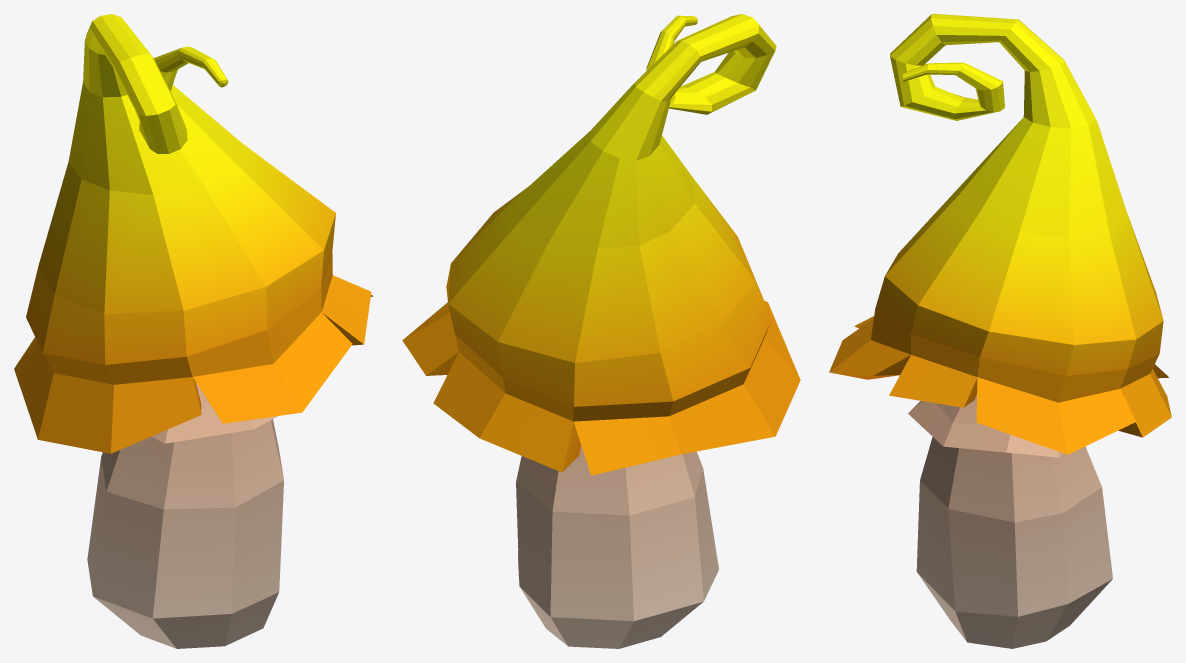
Rendered from dm11.mushroom.lg.v2.01.glb.
The picture shows the model from 3 angles, left to right: view 1: azimuth 30°, elevation 25°; view 2: azimuth 150°, elevation 25°; view 3: azimuth 270°, elevation 25°; orthographic projection. The views are drawn at different scales.
Parts seen in each view (by area): view 1: PP_Mushroom_Fantasy_Orange_09.001_PP_Standard_Material_0; view 2: PP_Mushroom_Fantasy_Orange_09.001_PP_Standard_Material_0; view 3: PP_Mushroom_Fantasy_Orange_09.001_PP_Standard_Material_0.
Boxes of the visible parts, x1=… form: PP_Mushroom_Fantasy_Orange_09.001_PP_Standard_Material_0: x1=14, y1=14, x2=373, y2=648; PP_Mushroom_Fantasy_Orange_09.001_PP_Standard_Material_0: x1=402, y1=14, x2=800, y2=648; PP_Mushroom_Fantasy_Orange_09.001_PP_Standard_Material_0: x1=829, y1=14, x2=1171, y2=648.
Bounding box in the file's own units: 0.2123 × 0.3673 × 0.2024.
Materials: 1 (1 with a texture image).
